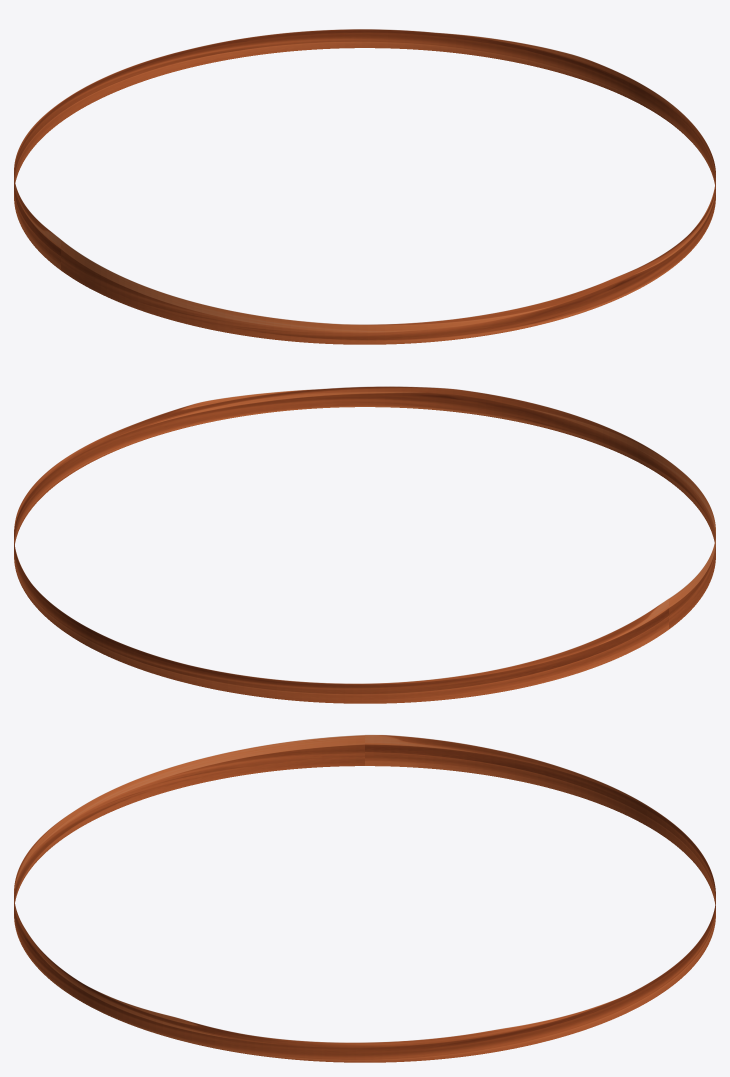
Rendered from background1.glb.
3 views of the same model, one above another, from view 1: azimuth 30°, elevation 25°; view 2: azimuth 150°, elevation 25°; view 3: azimuth 270°, elevation 25° (orthographic).
Visible parts, largest first — view 1: Cylinder; view 2: Cylinder; view 3: Cylinder.
Boxes of the visible parts, x1=… form: Cylinder: x1=14, y1=29, x2=715, y2=344; Cylinder: x1=14, y1=386, x2=715, y2=703; Cylinder: x1=14, y1=735, x2=715, y2=1062.
Size of the model in its own units: 1878 by 100 by 1878.
1 material, 1 textured.
